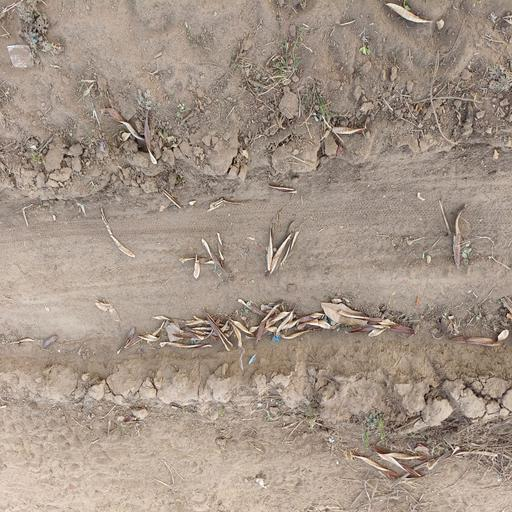vehicle_track: (0, 173, 512, 339)
